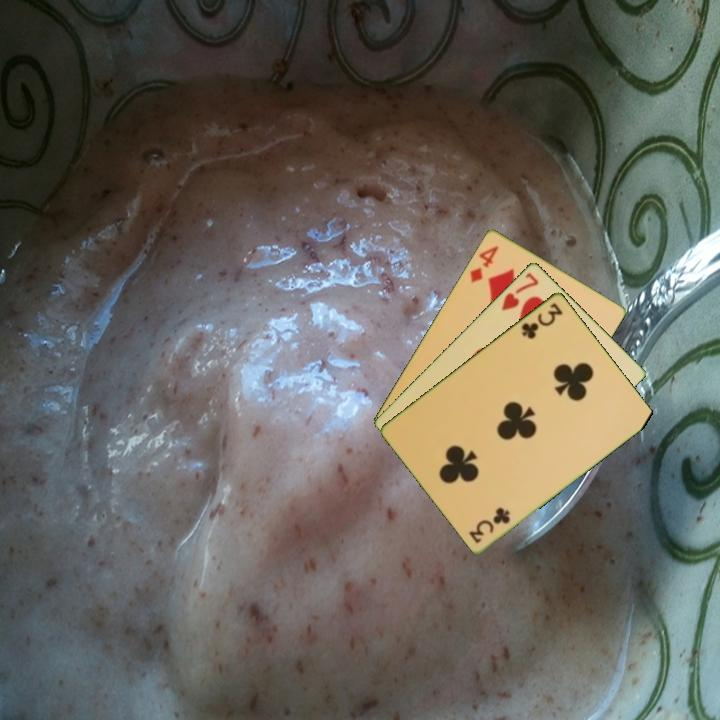3c: (518, 299, 566, 342), (466, 504, 513, 546)
4d: (466, 242, 501, 286)
7h: (497, 268, 542, 313)
